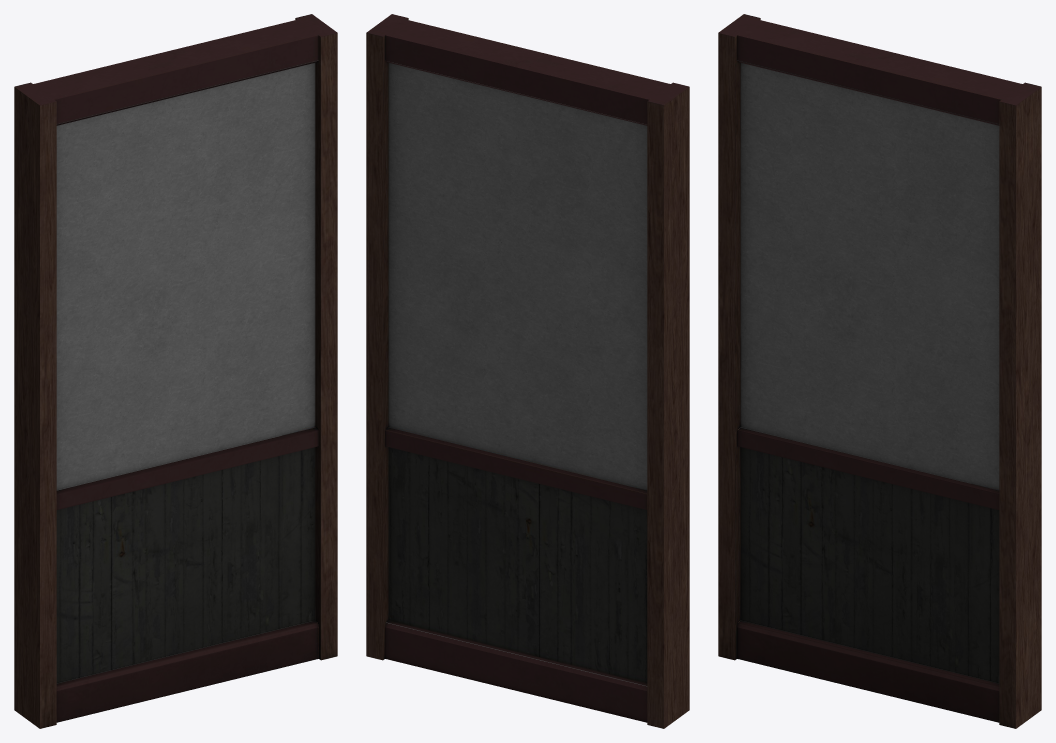
Rendered from horrorGameAssetSoloWall.fbx.
3 renders of one model, left to right at view 1: azimuth 30°, elevation 25°; view 2: azimuth 150°, elevation 25°; view 3: azimuth 330°, elevation 25°, orthographic.
Visible parts, largest first — view 1: Wall_02.038; view 2: Wall_02.038; view 3: Wall_02.038.
Part boxes in pixels (x1,y1,x2,y2): Wall_02.038: (14, 14, 337, 728); Wall_02.038: (366, 14, 689, 728); Wall_02.038: (718, 14, 1041, 728).
Size of the model in its own units: 200 by 400 by 30.
